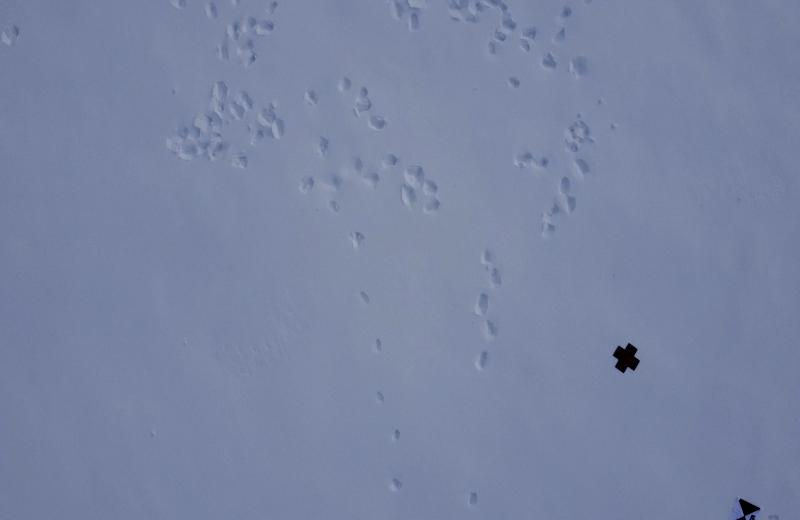Cross: (614, 338, 643, 375)
